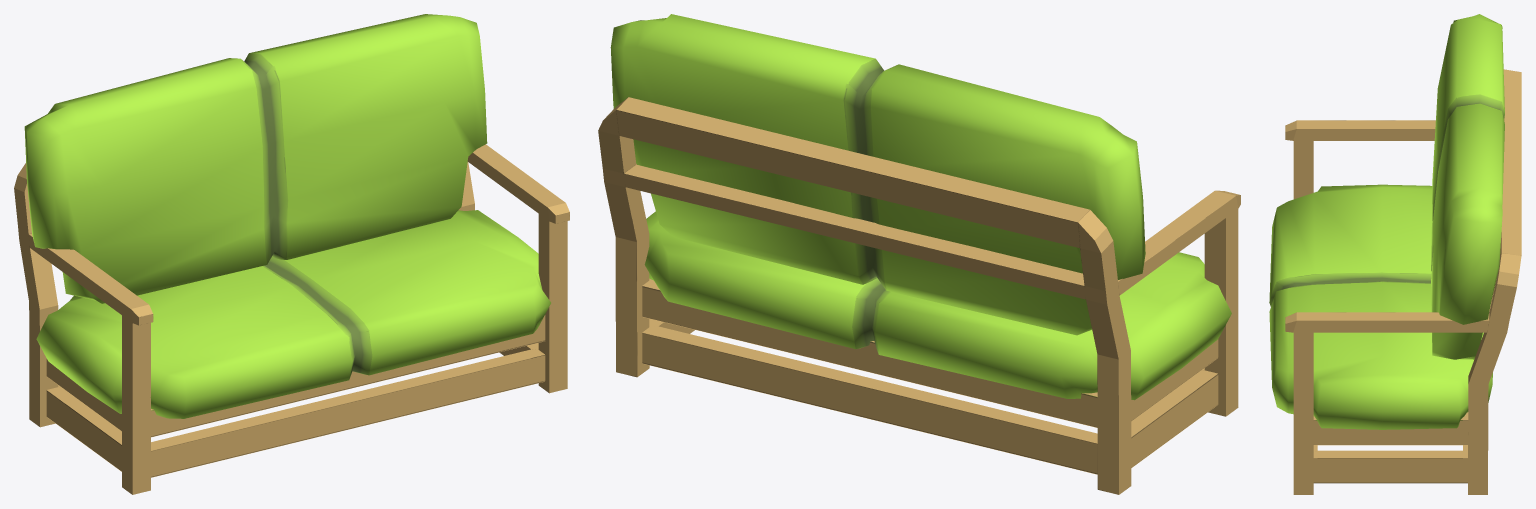
The model's file is Sofa.fbx.
3 renders of one model, left to right at view 1: azimuth 30°, elevation 25°; view 2: azimuth 150°, elevation 25°; view 3: azimuth 270°, elevation 25°, orthographic. The views are drawn at different scales.
Visible parts, largest first — view 1: Sofa; view 2: Sofa; view 3: Sofa.
Part boxes in pixels (bbox=[...]): Sofa: bbox=[14, 14, 569, 494]; Sofa: bbox=[598, 14, 1240, 494]; Sofa: bbox=[1269, 14, 1521, 494].
Bounding box in the file's own units: 5.52 × 3.64 × 2.82.
1 material, 1 textured.
